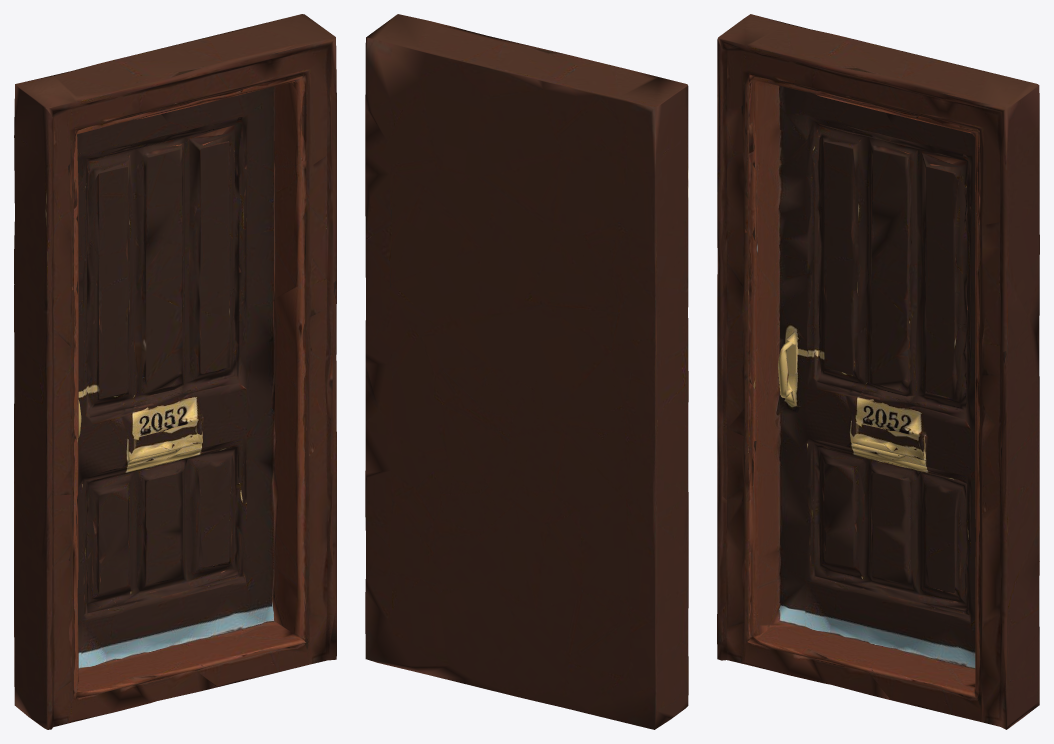
File: homeDoor.glb
The picture shows the model from 3 angles, left to right: view 1: azimuth 30°, elevation 25°; view 2: azimuth 150°, elevation 25°; view 3: azimuth 330°, elevation 25°; orthographic projection.
Size of the model in its own units: 0.9293 by 1.9 by 0.1858.
1 material, 1 textured.
